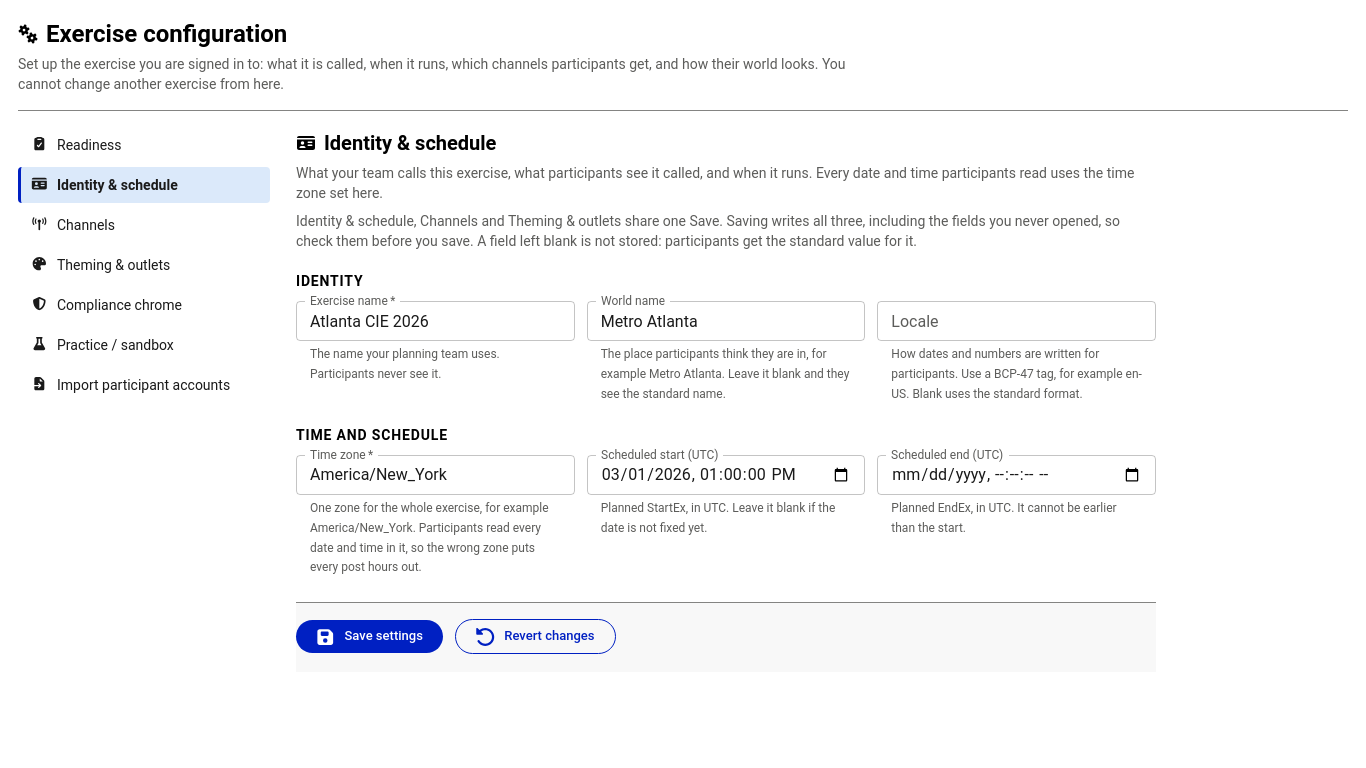
ExerciseSettingsPage — unsaved changes and off-screen validation › keeps the edit, and says where it is, when the planner moves to another form
The width and height of the screenshot is (1366, 768).
Expected: the form with test id "exercise-settings-form" is shown, [296,271,1156,672]
Type "!" into the field labelled "World name".
click(726, 321); type("!")  # box [587,301,865,341]
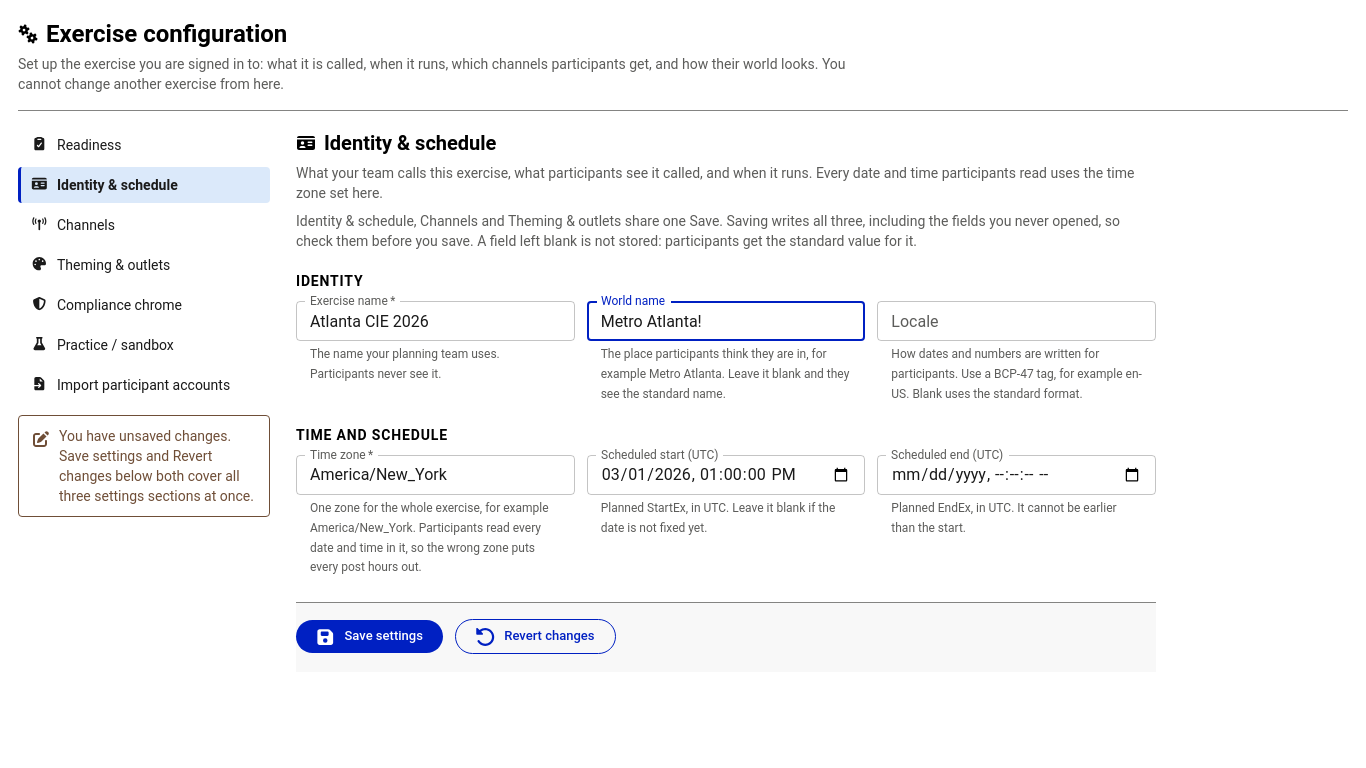
Click the button with test id "exercise-config-nav-practice".
click(144, 345)  # box [18,327,270,363]
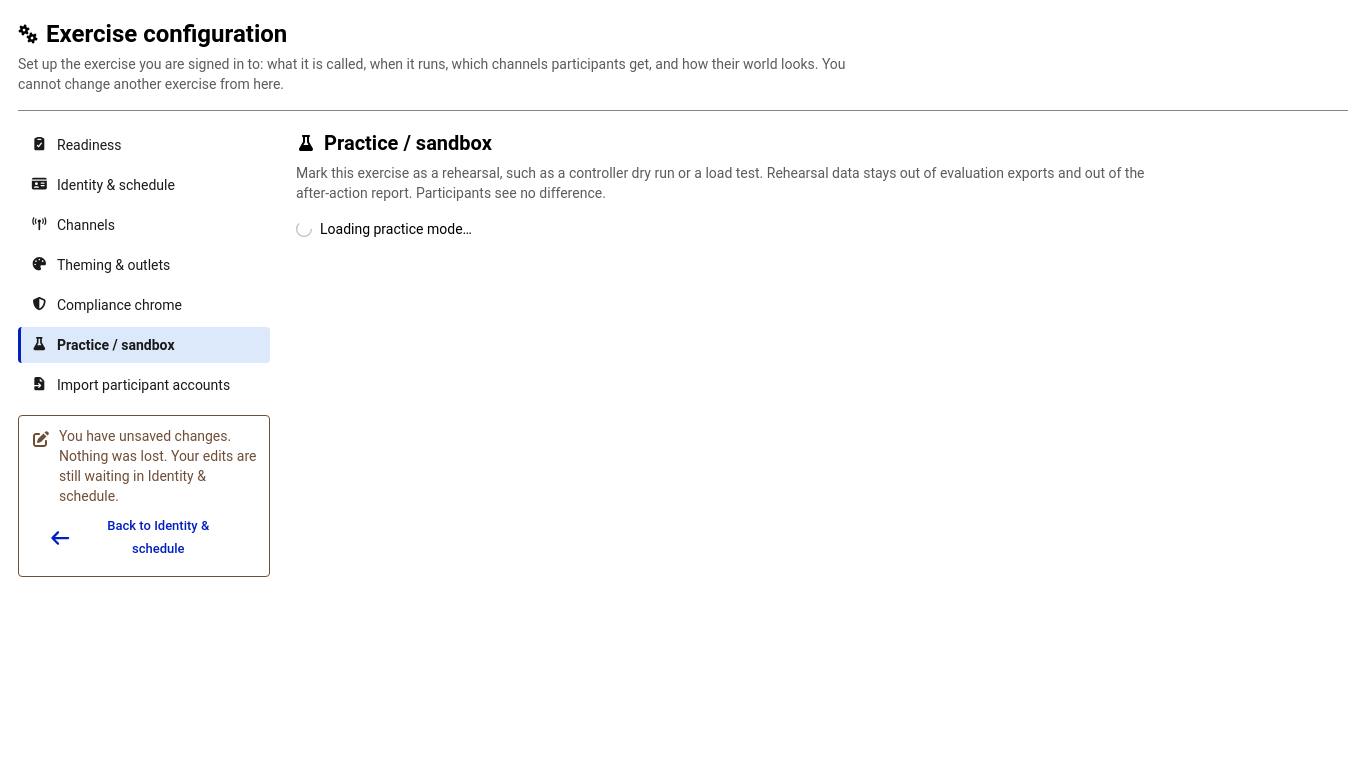
Expected: the message with test id "exercise-settings-unsaved-notice" shows "Nothing was lost", [59,428,256,504]
Expected: the message with test id "exercise-settings-unsaved-notice" shows "identity & schedule"
Note: ...and the way back restores the edit rather than a fresh form.
Click the button "Back to Identity & schedule".
click(144, 538)  # box [31,510,257,566]
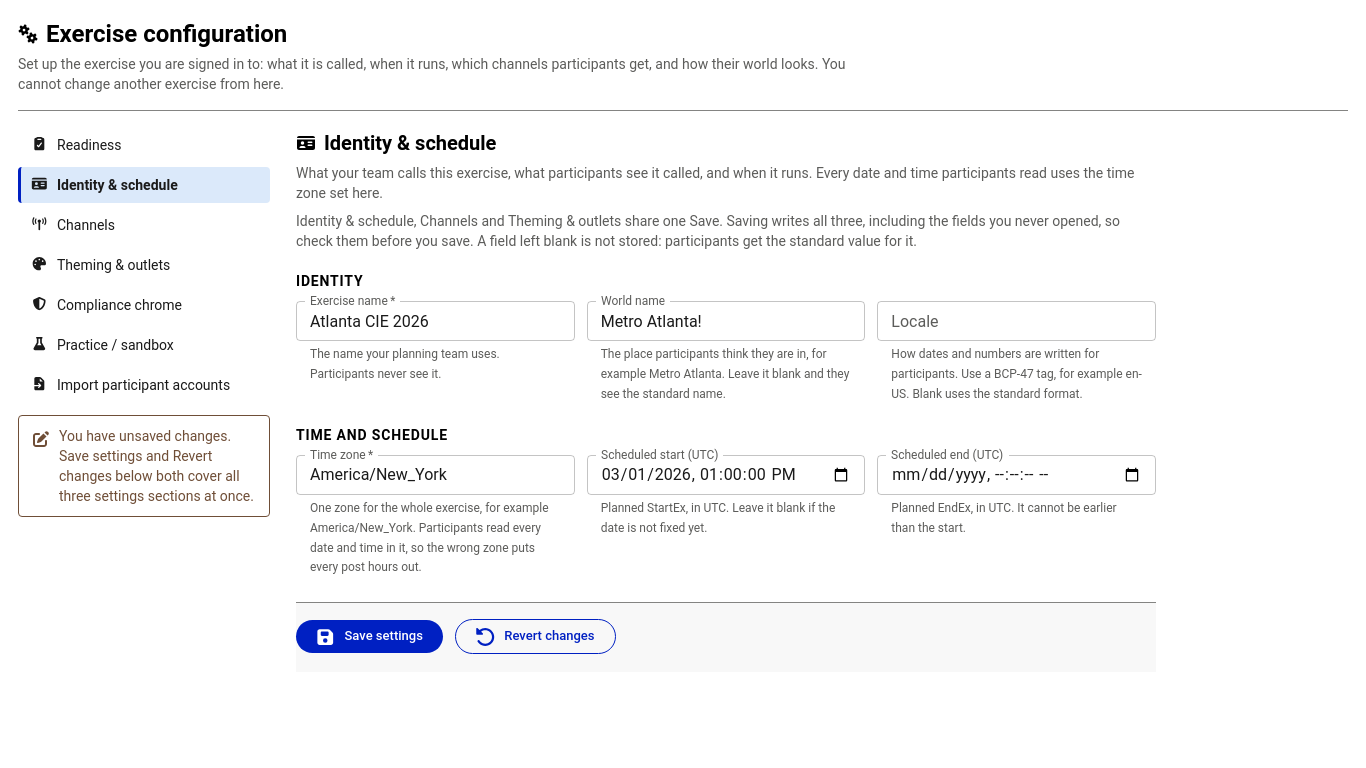
Expected: the field labelled "World name" holds "Metro Atlanta!", [587,301,865,341]
